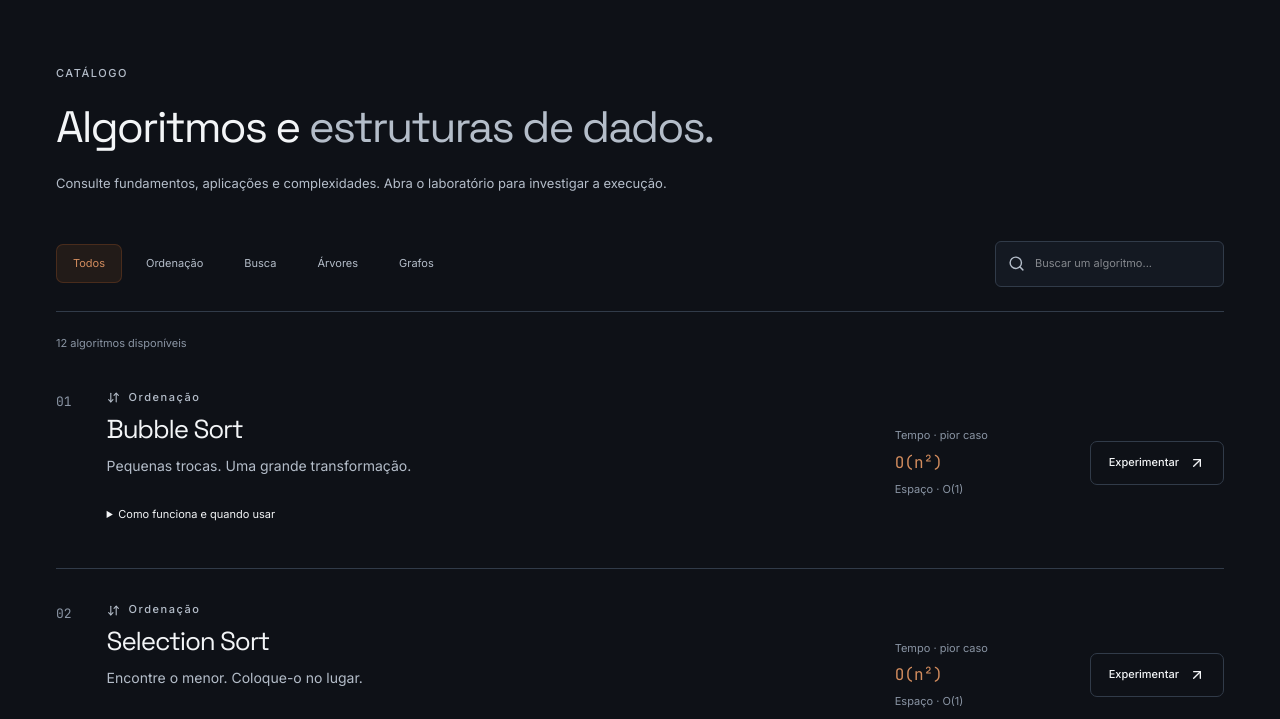
Test case: catálogo filtra por nome e categoria
Type "binaria" into the field named "Buscar algoritmos" at x=1123, y=264, box [1035,242,1211,286]
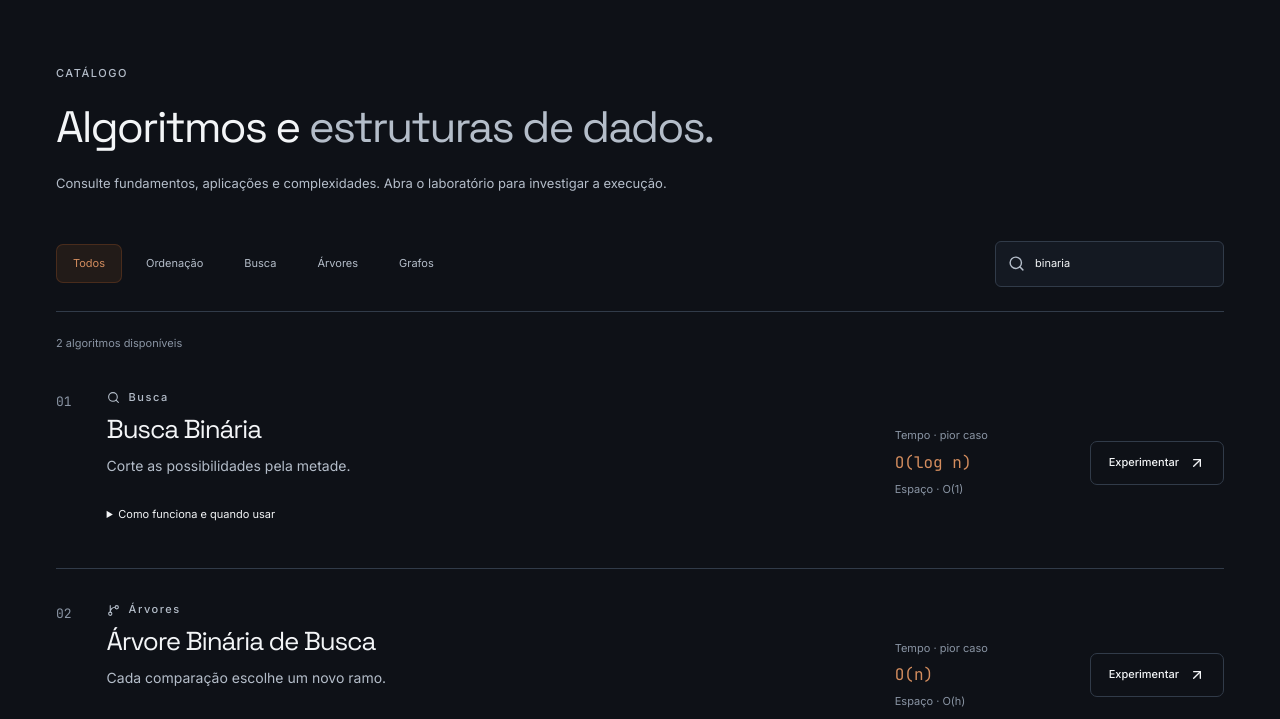
Expected: the heading "Busca Binária" is shown, [107,412,261,446]
Result: the heading "Bubble Sort" is gone
Click the button "Ordenação" at x=175, y=264, box [129,244,220,283]
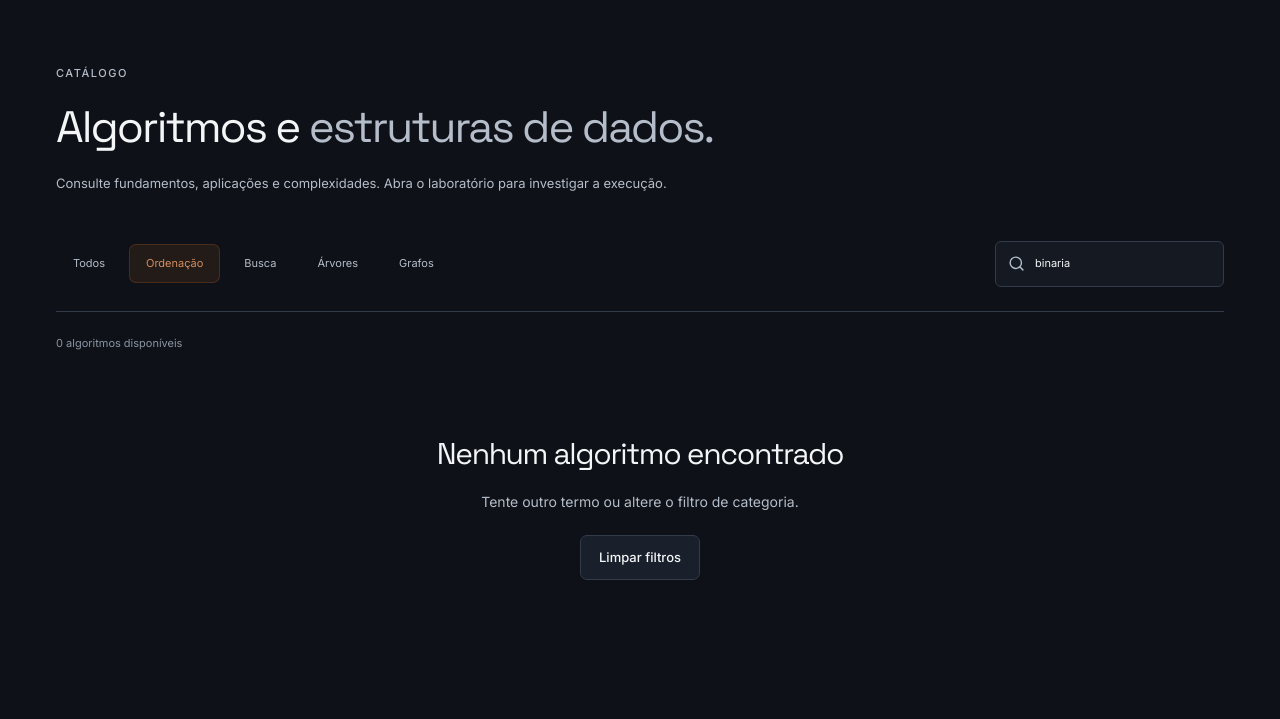
Result: the heading "Nenhum algoritmo encontrado" is shown at [437,434,843,473]
